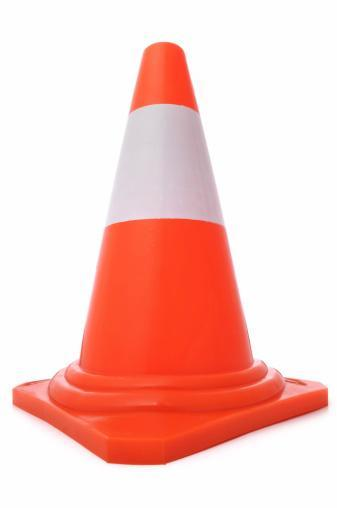Cone: (15, 41, 327, 466)
